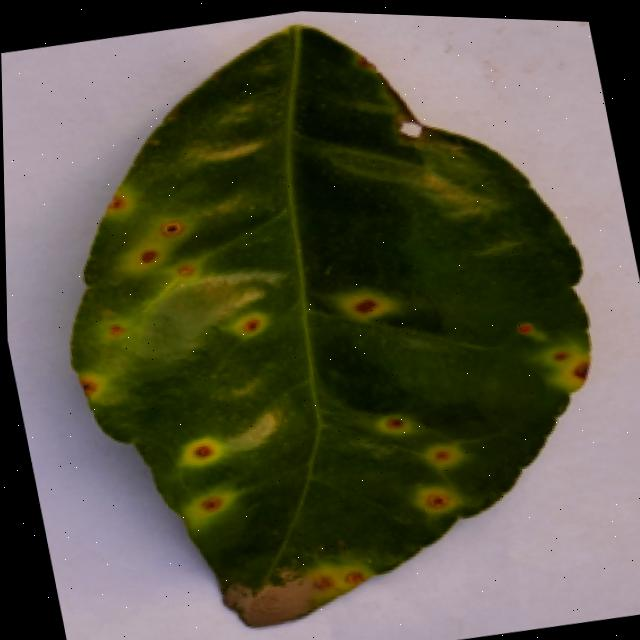canker: (70, 27, 586, 627), (70, 153, 292, 400), (354, 389, 481, 523), (165, 416, 239, 532), (325, 264, 416, 340), (295, 555, 387, 611), (517, 323, 587, 392)
